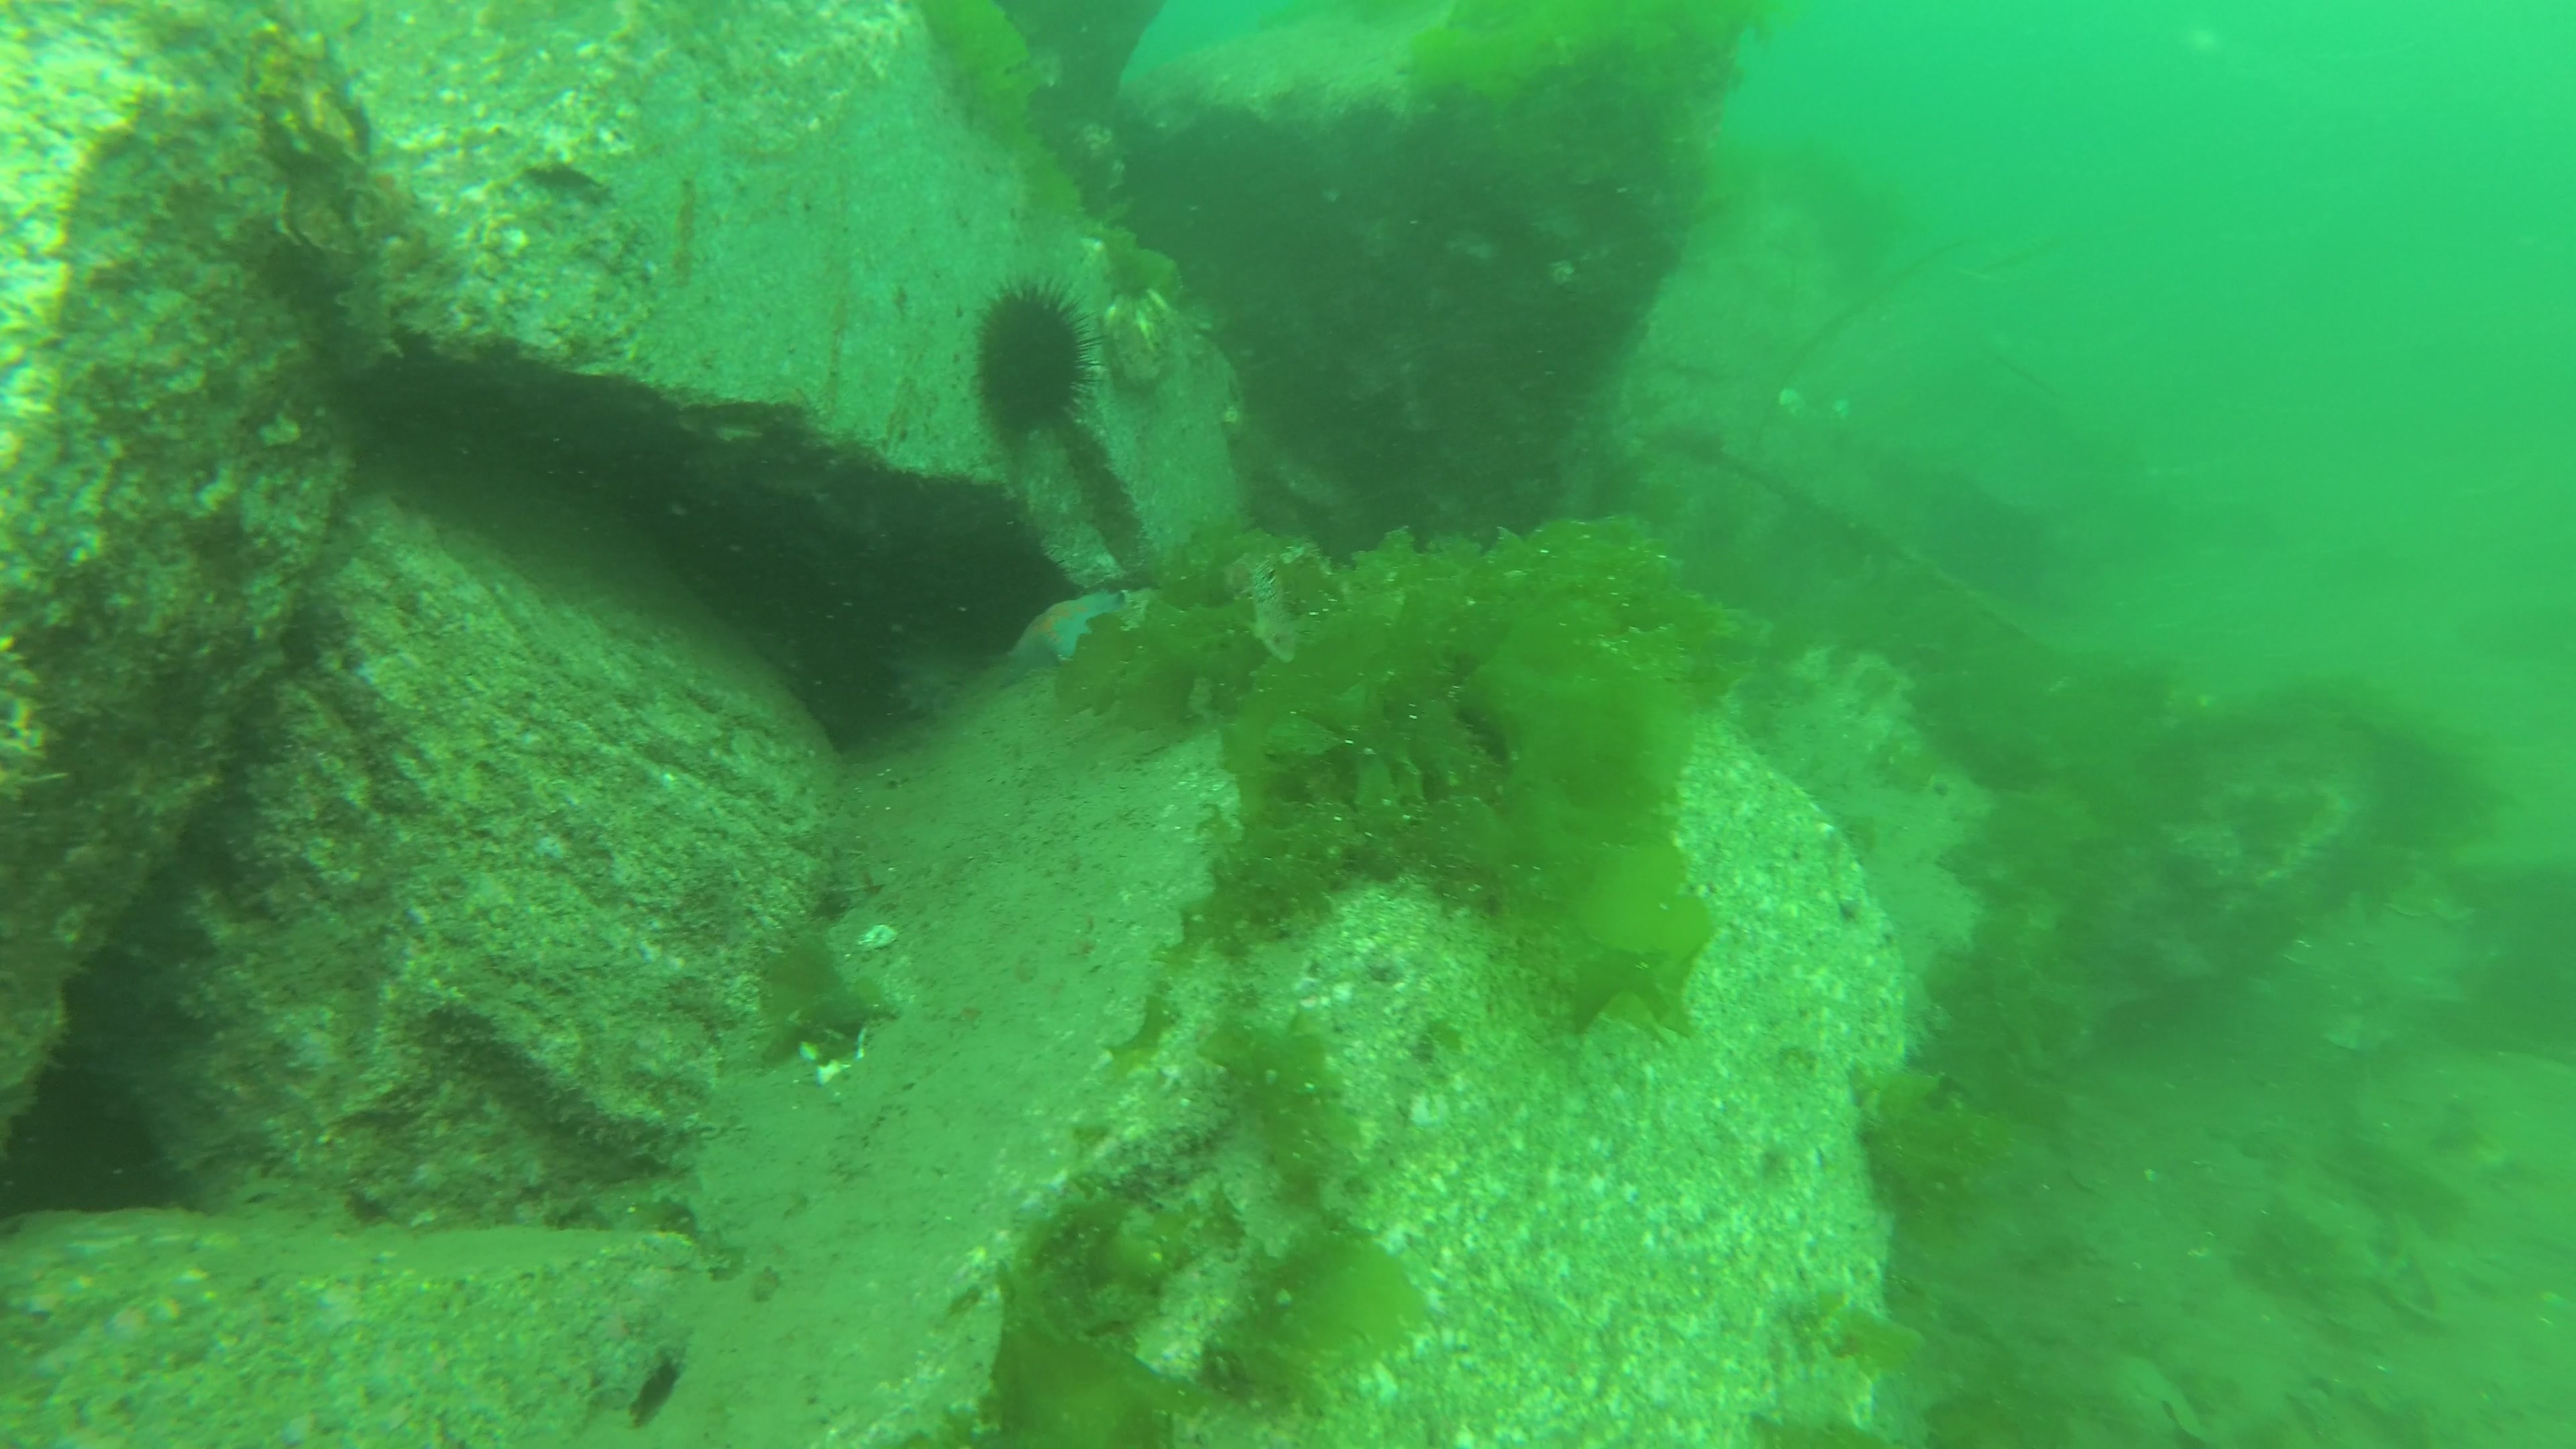echinus: (966, 267, 1109, 458)
starfish: (1001, 577, 1127, 671)
